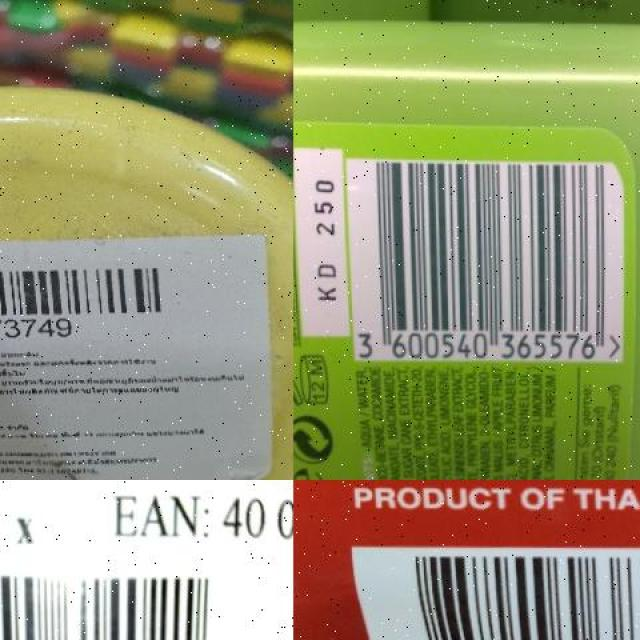Barcode: (343, 146, 626, 362), (376, 538, 640, 640), (0, 546, 237, 640), (0, 251, 183, 340)
